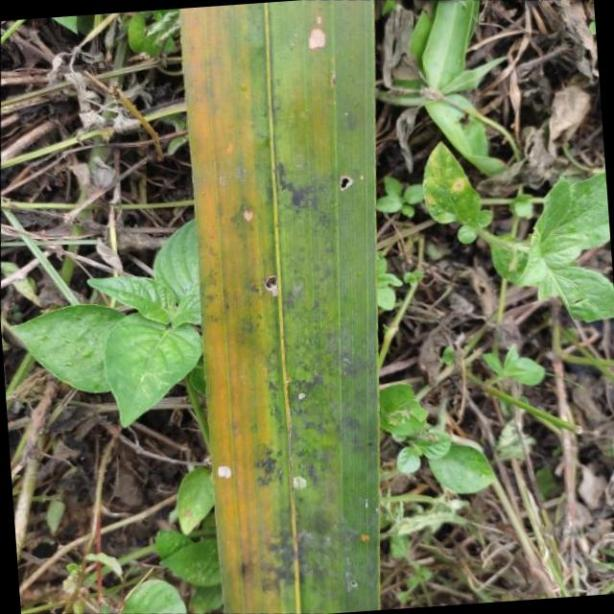Megnesium: (176, 0, 385, 614)
